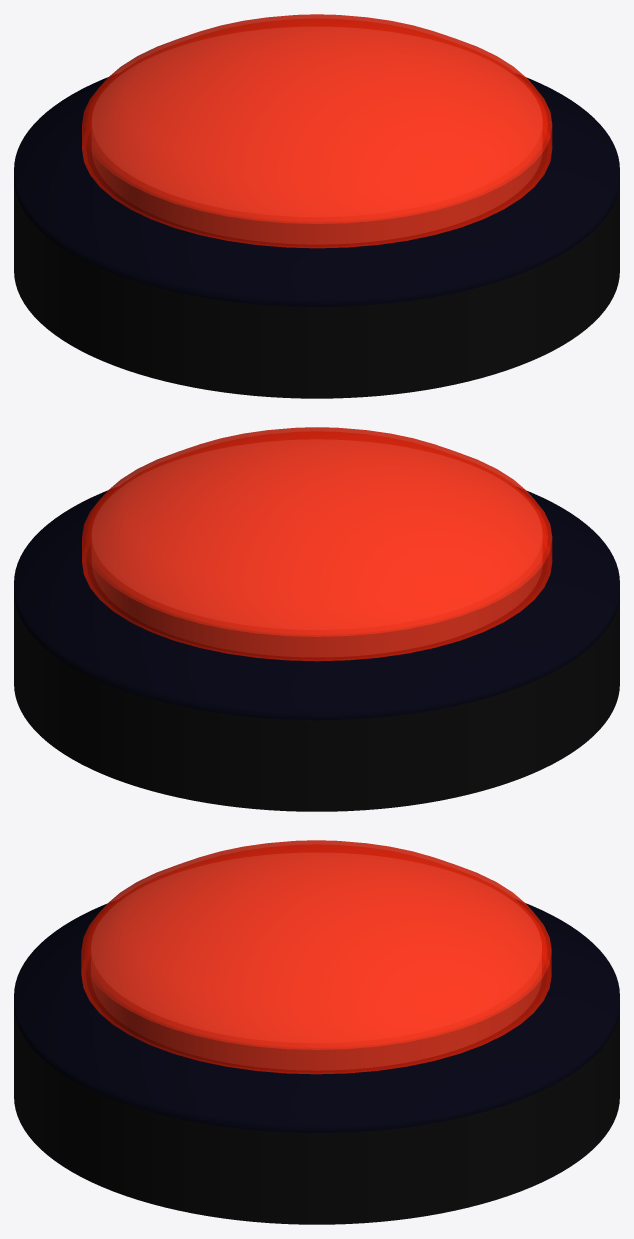
The model's file is button-hf.glb.
3 views of the same model, one above another, from view 1: azimuth 30°, elevation 25°; view 2: azimuth 150°, elevation 25°; view 3: azimuth 270°, elevation 25° (orthographic).
Visible parts, largest first — view 1: top, button-hf, base-top; view 2: top, button-hf, base-top; view 3: top, button-hf, base-top.
Part boxes in pixels (x1=…): top: x1=82, y1=14, x2=552, y2=248; button-hf: x1=14, y1=182, x2=619, y2=398; base-top: x1=14, y1=77, x2=619, y2=306; top: x1=82, y1=427, x2=552, y2=661; button-hf: x1=14, y1=595, x2=619, y2=811; base-top: x1=14, y1=490, x2=619, y2=720; top: x1=81, y1=840, x2=551, y2=1074; button-hf: x1=14, y1=1008, x2=619, y2=1224; base-top: x1=14, y1=903, x2=619, y2=1132.
Bounding box in the file's own units: 0.09 × 0.0358 × 0.09.
